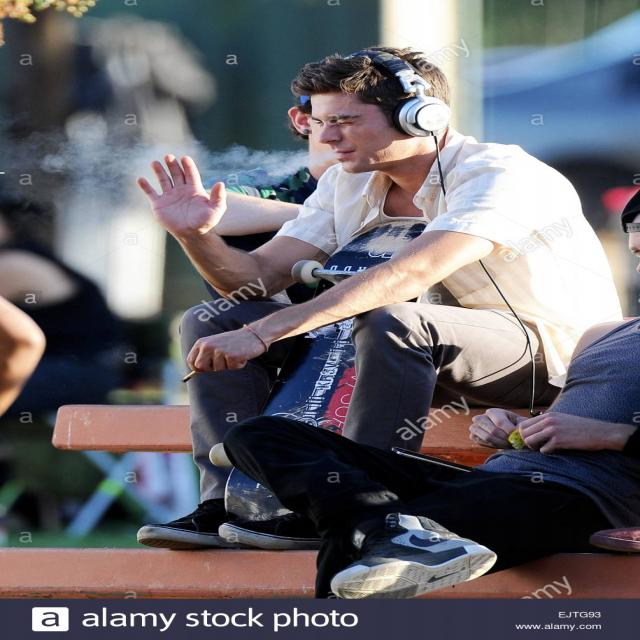cigarette: (180, 369, 197, 382)
